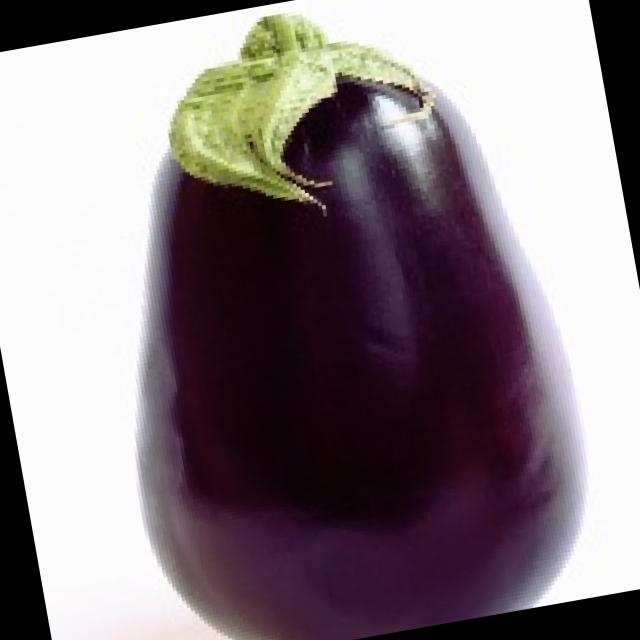eggplant: (61, 0, 614, 640)
